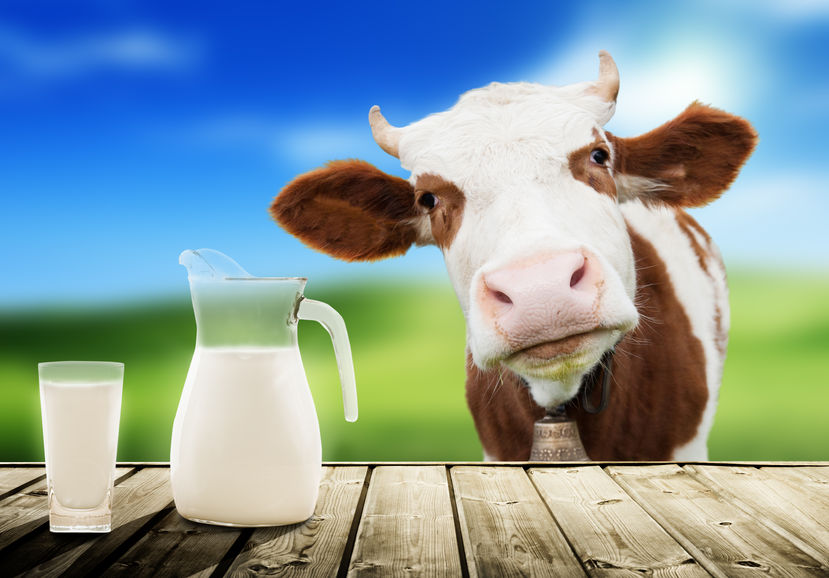glass of milk: (173, 254, 355, 532), (31, 362, 131, 541)
